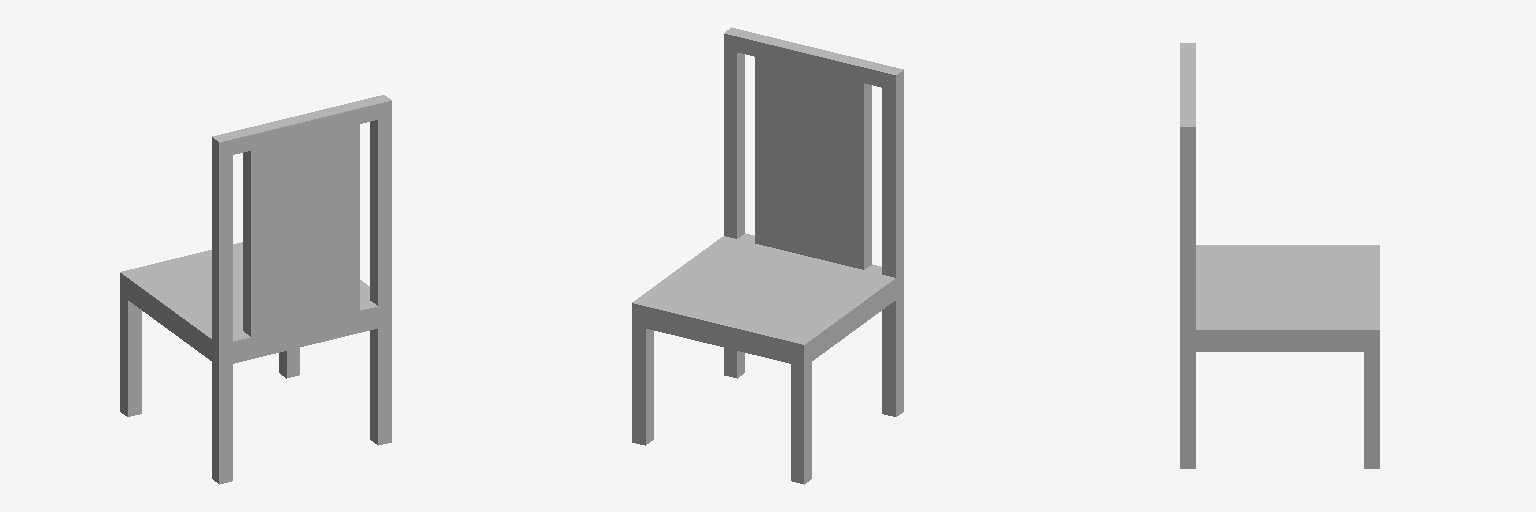
Rendered from chair.obj.
3 renders of one model, left to right at view 1: azimuth 30°, elevation 25°; view 2: azimuth 150°, elevation 25°; view 3: azimuth 270°, elevation 25°, orthographic.
Visible parts, largest first — view 1: pCube011; view 2: pCube011; view 3: pCube011.
Boxes of the visible parts, x1,y1,x2,y2 form: pCube011: [120, 95, 391, 484]; pCube011: [632, 27, 903, 484]; pCube011: [1180, 43, 1379, 468].
Bounding box in the file's own units: 10.87 × 20.56 × 10.87.